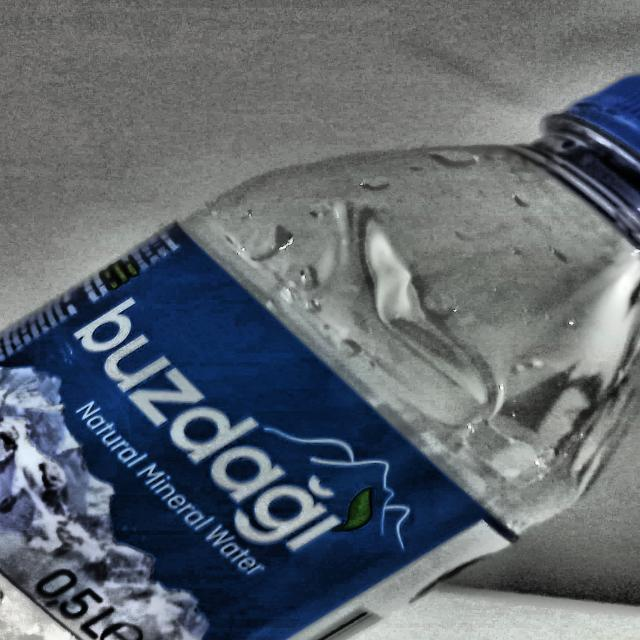plastic: (0, 72, 640, 640)
